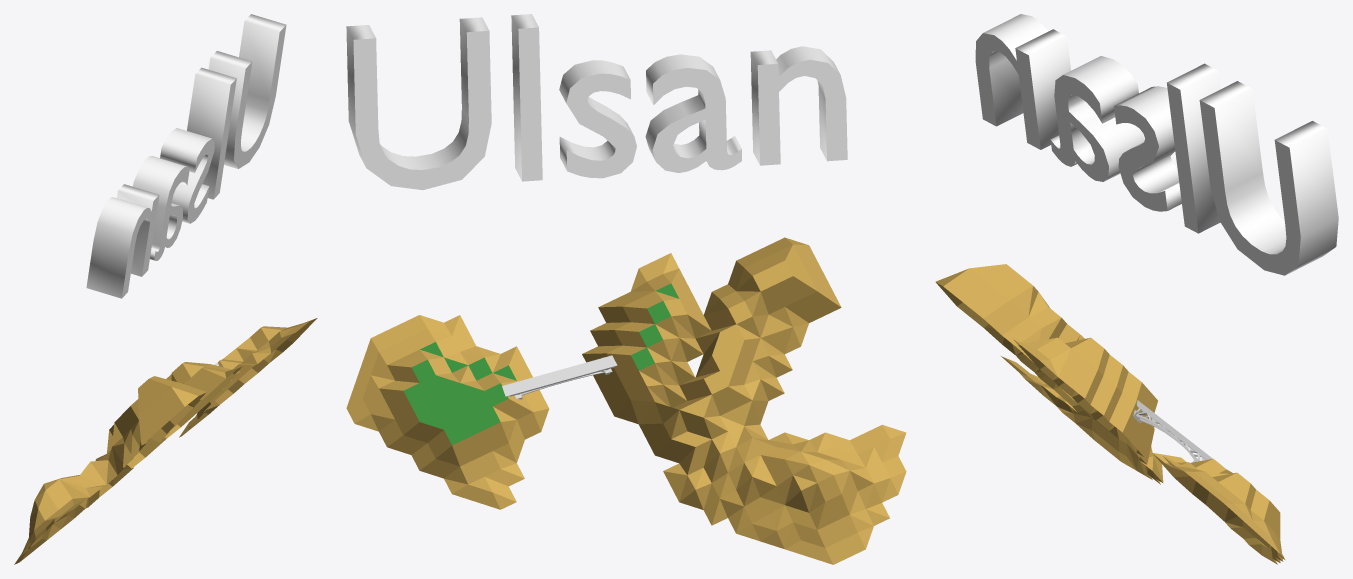
The model's file is Ulsan.gltf.
3 renders of one model, left to right at view 1: azimuth 30°, elevation 25°; view 2: azimuth 150°, elevation 25°; view 3: azimuth 270°, elevation 25°, orthographic. The views are drawn at different scales.
Visible parts, largest first — view 1: Ulsan; view 2: Ulsan; view 3: Ulsan.
Part boxes in pixels (left/top/right/bottom): Ulsan: left=14, top=14, right=317, bottom=564; Ulsan: left=346, top=14, right=906, bottom=564; Ulsan: left=935, top=14, right=1338, bottom=564.
Size of the model in its own units: 0.2178 by 0.2376 by 0.1645.
